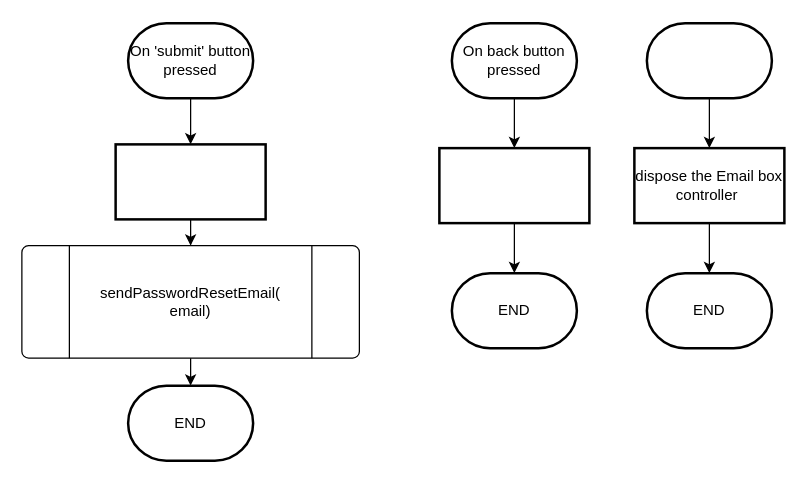
The diagram is 808 pixels wide and 483 high, and some of its shapes have lost their labels. Here are the shapes that lost their labels. From the top down, the centre of each, then its label:
the point at 708,60: On Page close
the point at 190,181: Email = EmailController
the point at 514,185: Navigator pop to previous page
